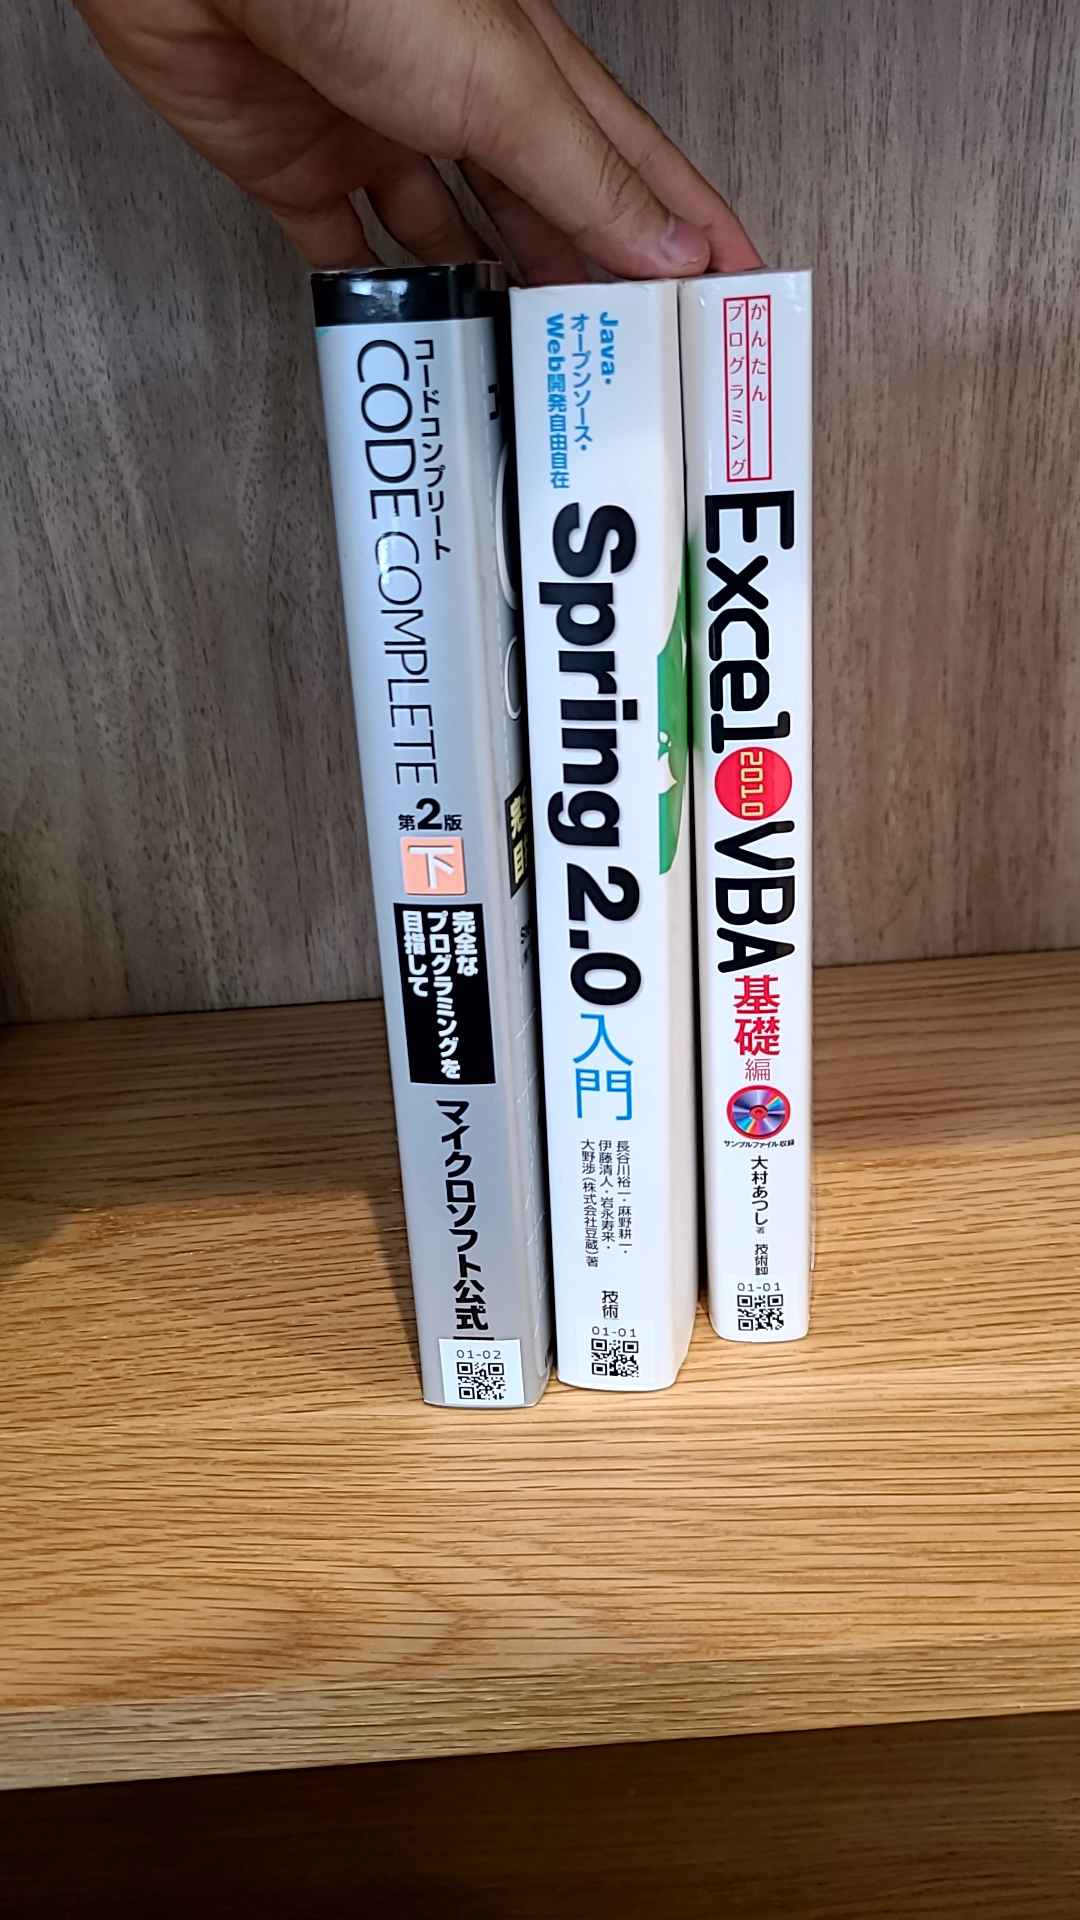book: (310, 251, 554, 1415), (493, 272, 700, 1395), (683, 273, 847, 1353)
